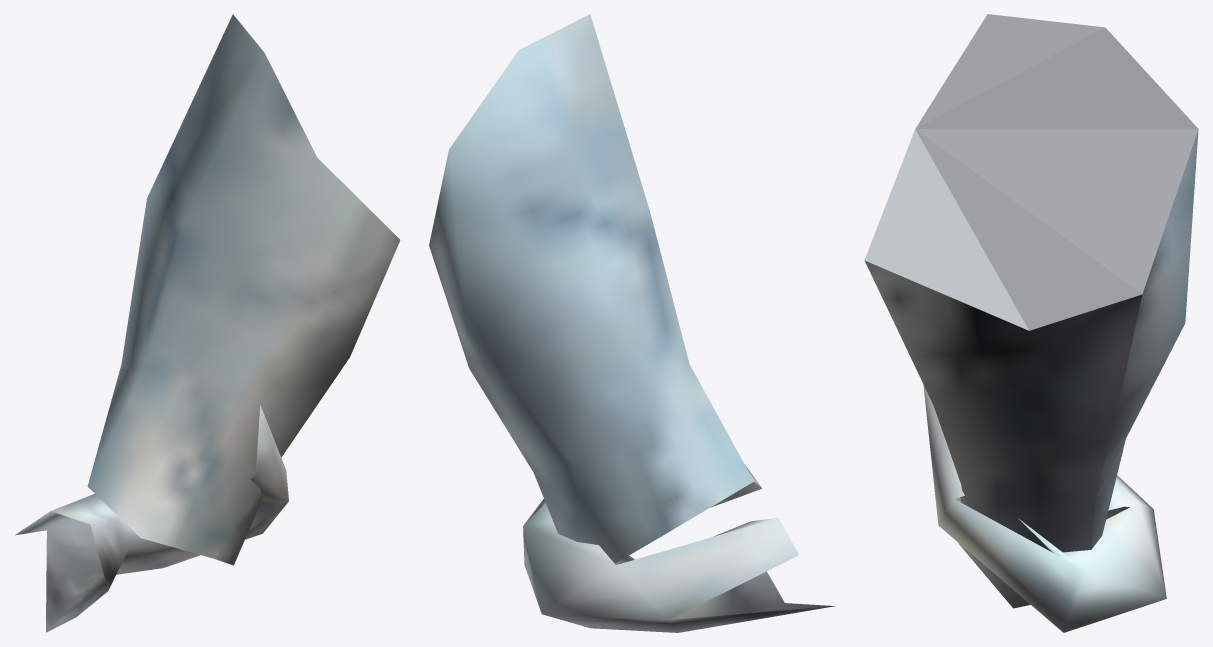
Rendered from Minos_Upper_Right_Arm.obj.
3 renders of one model, left to right at view 1: azimuth 30°, elevation 25°; view 2: azimuth 150°, elevation 25°; view 3: azimuth 270°, elevation 25°, orthographic. The views are drawn at different scales.
Visible parts, largest first — view 1: Minos_Upper_Right_Arm; view 2: Minos_Upper_Right_Arm; view 3: Minos_Upper_Right_Arm.
Boxes of the visible parts, <box> form: Minos_Upper_Right_Arm: <box>15,14,400,632</box>; Minos_Upper_Right_Arm: <box>429,14,835,632</box>; Minos_Upper_Right_Arm: <box>864,14,1198,632</box>.
Size of the model in its own units: 0.1367 by 0.2232 by 0.1066.
Materials: 1 (1 with a texture image).
